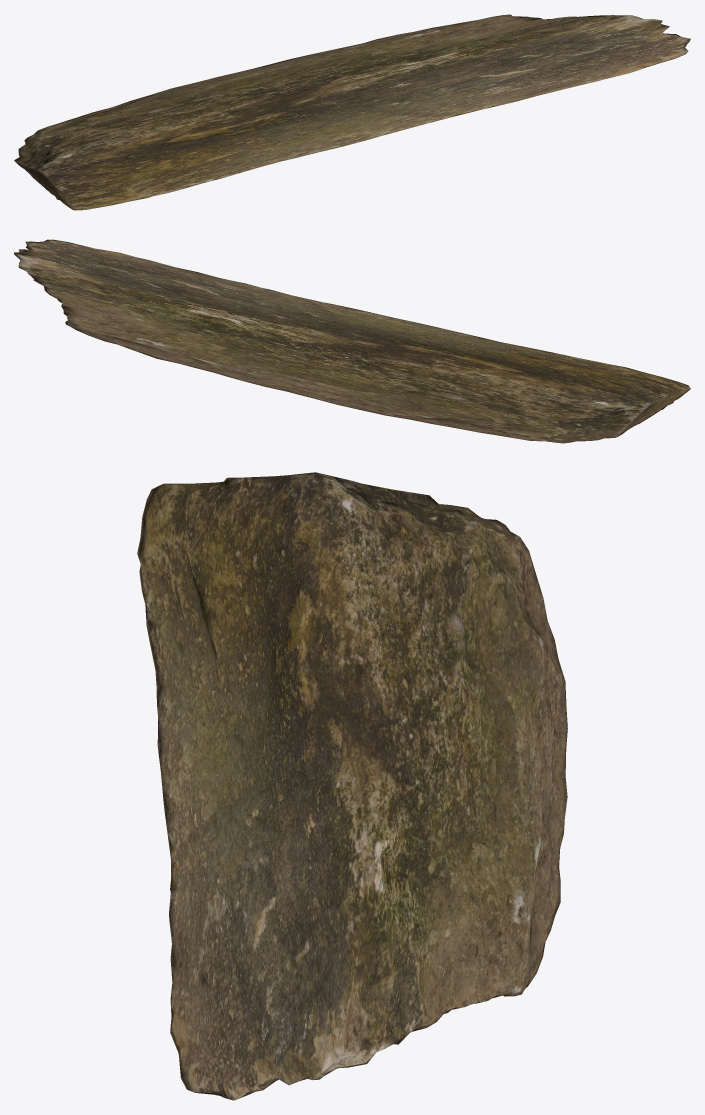
Rendered from Sporgenza 1.fbx.
3 renders of one model, top to bottom at view 1: azimuth 30°, elevation 25°; view 2: azimuth 150°, elevation 25°; view 3: azimuth 270°, elevation 25°, orthographic. The views are drawn at different scales.
Parts seen in each view (by area): view 1: sporgenza 1; view 2: sporgenza 1; view 3: sporgenza 1.
Part boxes in pixels (<box>): sporgenza 1: <box>14,14,690,210</box>; sporgenza 1: <box>14,239,690,443</box>; sporgenza 1: <box>137,472,567,1100</box>.
Bounding box in the file's own units: 1704 × 37.01 × 500.
